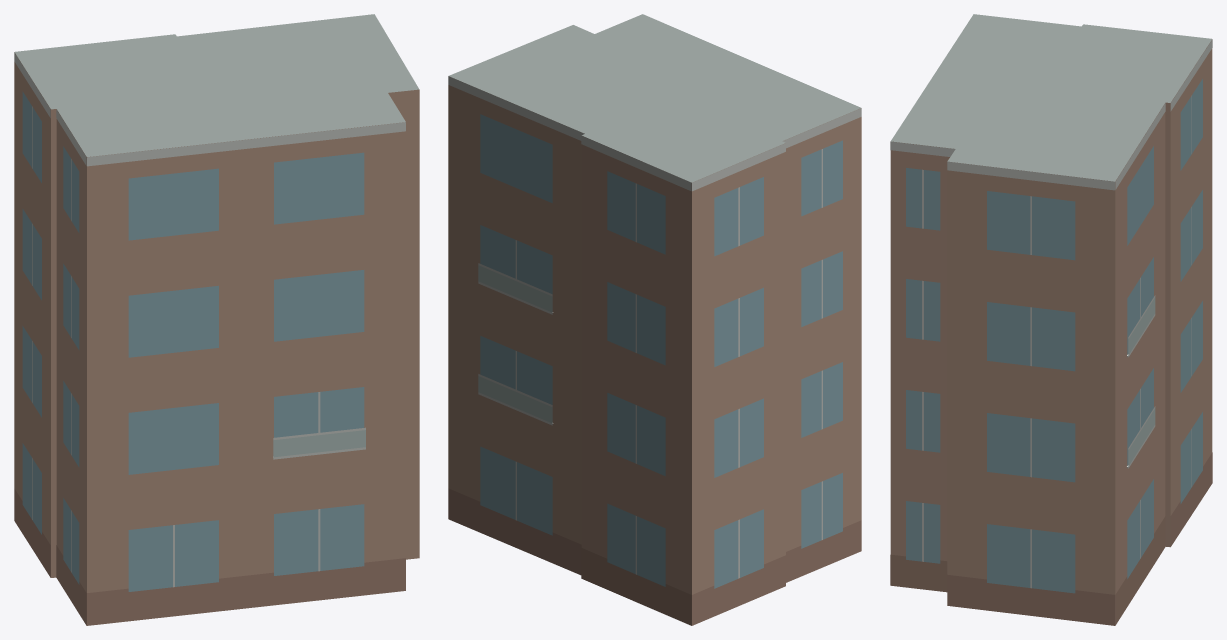
The model's file is survey-upis-32476935.glb.
3 renders of one model, left to right at view 1: azimuth 30°, elevation 25°; view 2: azimuth 150°, elevation 25°; view 3: azimuth 270°, elevation 25°, orthographic. The views are drawn at different scales.
Visible parts, largest first — view 1: survey-upis-32476935.tmp; view 2: survey-upis-32476935.tmp; view 3: survey-upis-32476935.tmp.
Boxes of the visible parts, x1,y1,x2,y2 form: survey-upis-32476935.tmp: (14, 14, 419, 625); survey-upis-32476935.tmp: (448, 14, 861, 625); survey-upis-32476935.tmp: (890, 14, 1212, 625).
Size of the model in its own units: 9.96 by 12.3 by 8.09.
